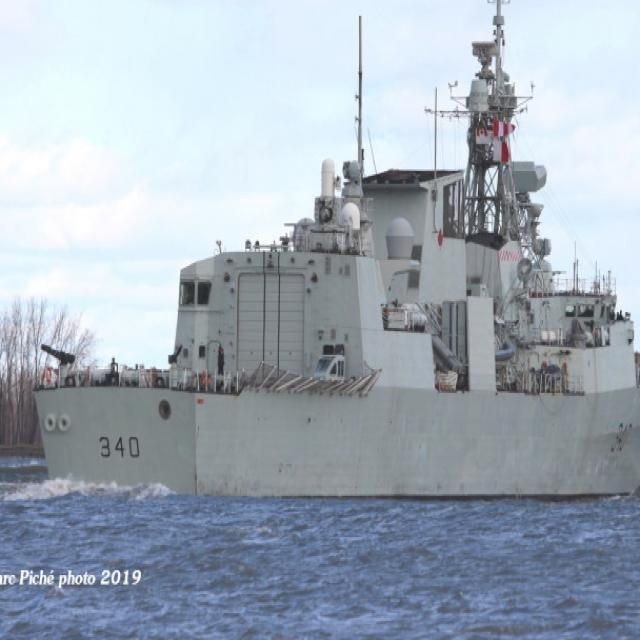Fragata: (24, 1, 640, 511)
